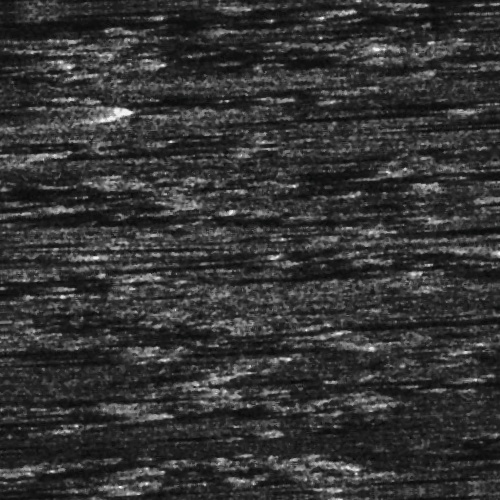object: (278, 343, 455, 356), (55, 476, 170, 489), (190, 363, 263, 382), (16, 192, 89, 203), (0, 136, 62, 147), (314, 10, 387, 19), (92, 338, 165, 345), (368, 172, 409, 183), (108, 405, 171, 412), (195, 2, 268, 7), (428, 117, 491, 122), (119, 350, 182, 355), (439, 485, 500, 490), (90, 96, 101, 109), (319, 332, 360, 335), (406, 161, 437, 164), (0, 1, 8, 8)
shadow: (61, 10, 350, 19), (356, 322, 500, 337), (127, 363, 226, 382), (224, 343, 366, 356), (10, 476, 112, 489), (0, 96, 95, 109), (292, 172, 389, 183), (23, 2, 231, 7), (0, 405, 139, 412), (275, 117, 459, 122), (0, 338, 128, 345), (0, 192, 53, 203), (48, 350, 150, 355), (386, 485, 475, 490), (437, 15, 500, 22), (455, 125, 500, 134), (327, 161, 422, 164), (462, 245, 500, 252), (433, 238, 500, 241), (292, 332, 339, 335)
